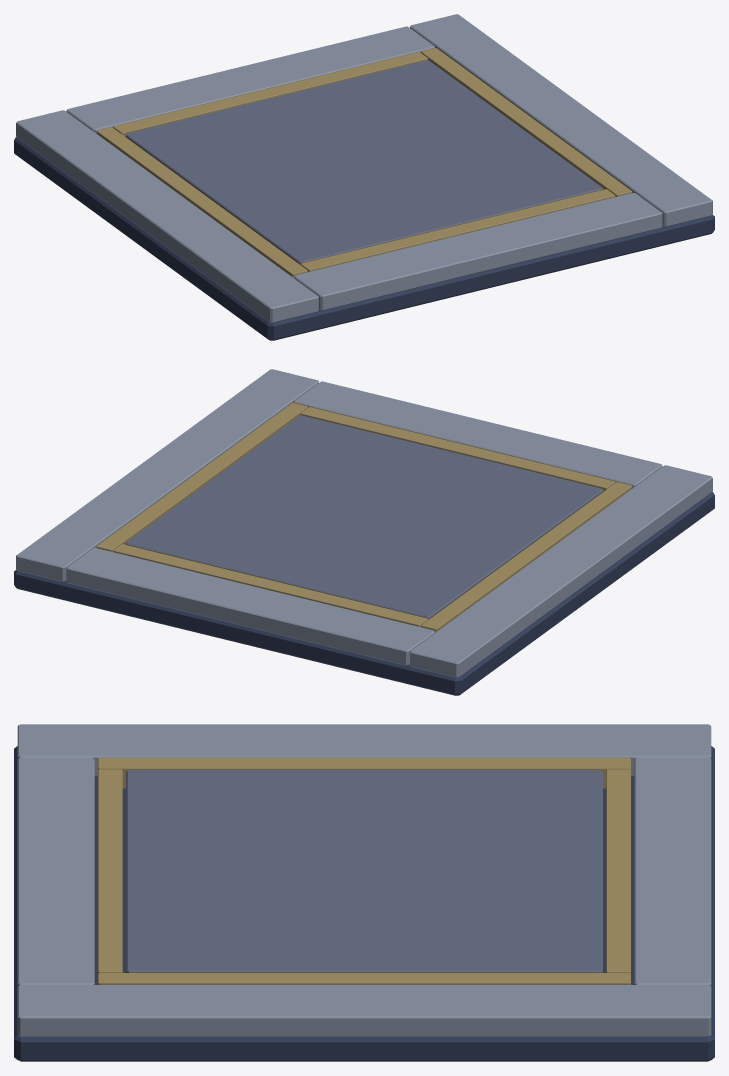
The model's file is floor-inset.glb.
3 views of the same model, one above another, from view 1: azimuth 30°, elevation 25°; view 2: azimuth 150°, elevation 25°; view 3: azimuth 270°, elevation 25° (orthographic). The views are drawn at different scales.
Parts seen in each view (by area): view 1: floor-inset__body; view 2: floor-inset__body; view 3: floor-inset__body.
Boxes of the visible parts, box(x1,y1,x2,y2) form: floor-inset__body: box(14, 14, 714, 340); floor-inset__body: box(14, 369, 714, 695); floor-inset__body: box(14, 724, 714, 1061).
Bounding box in the file's own units: 2 × 0.14 × 2.
